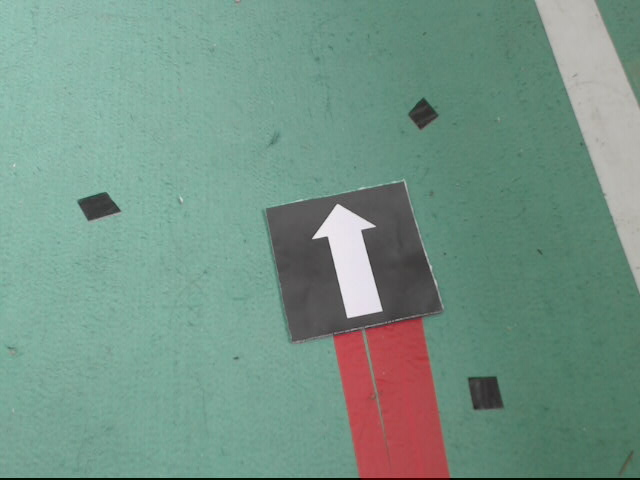straight: (266, 179, 446, 342)
